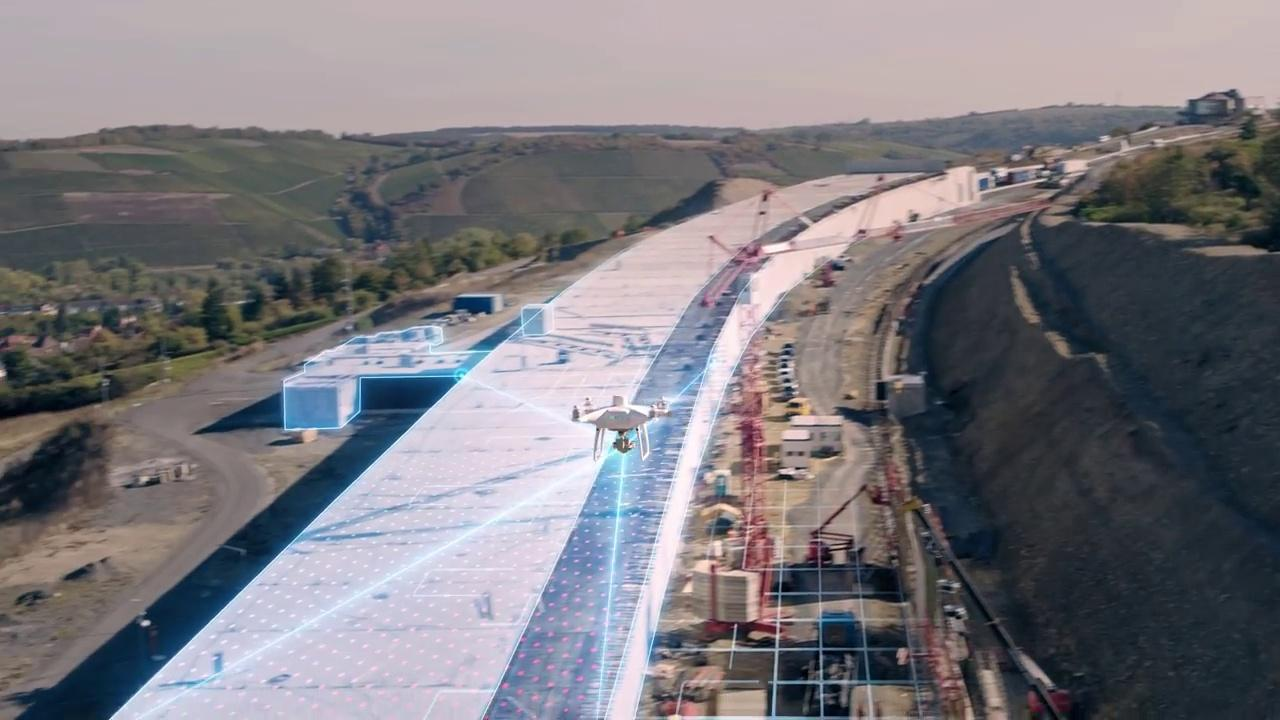drone: (562, 391, 676, 462)
